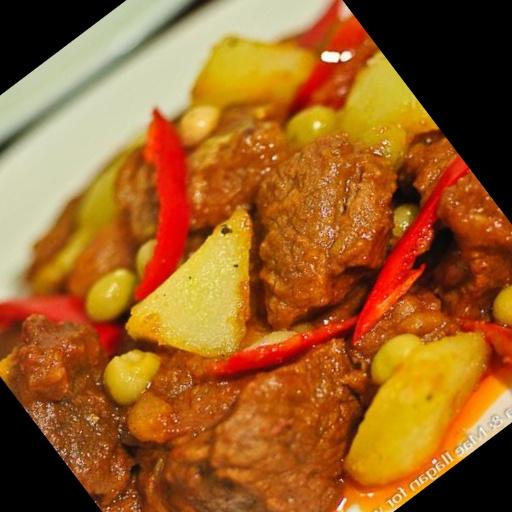pork caldereta: (0, 14, 511, 511)
